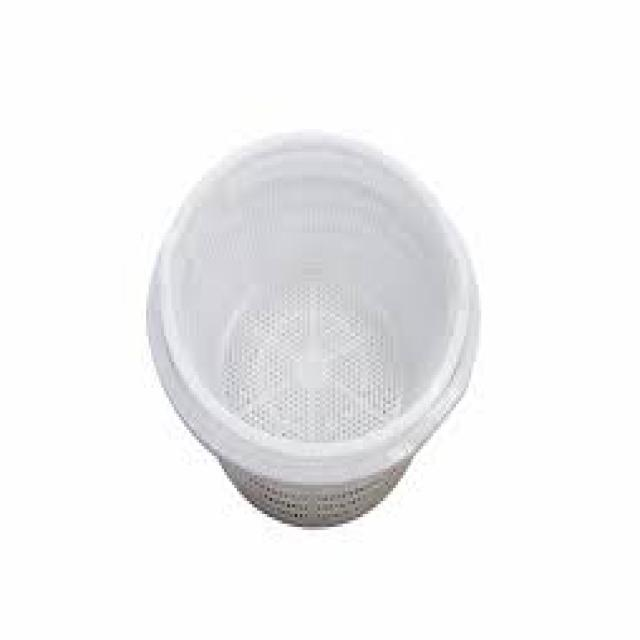basket: (71, 74, 561, 568)
